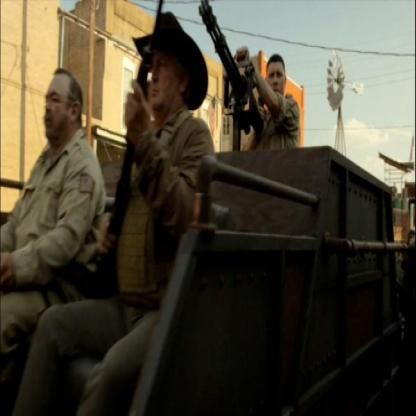Gun: (93, 0, 171, 283), (189, 0, 272, 157)
